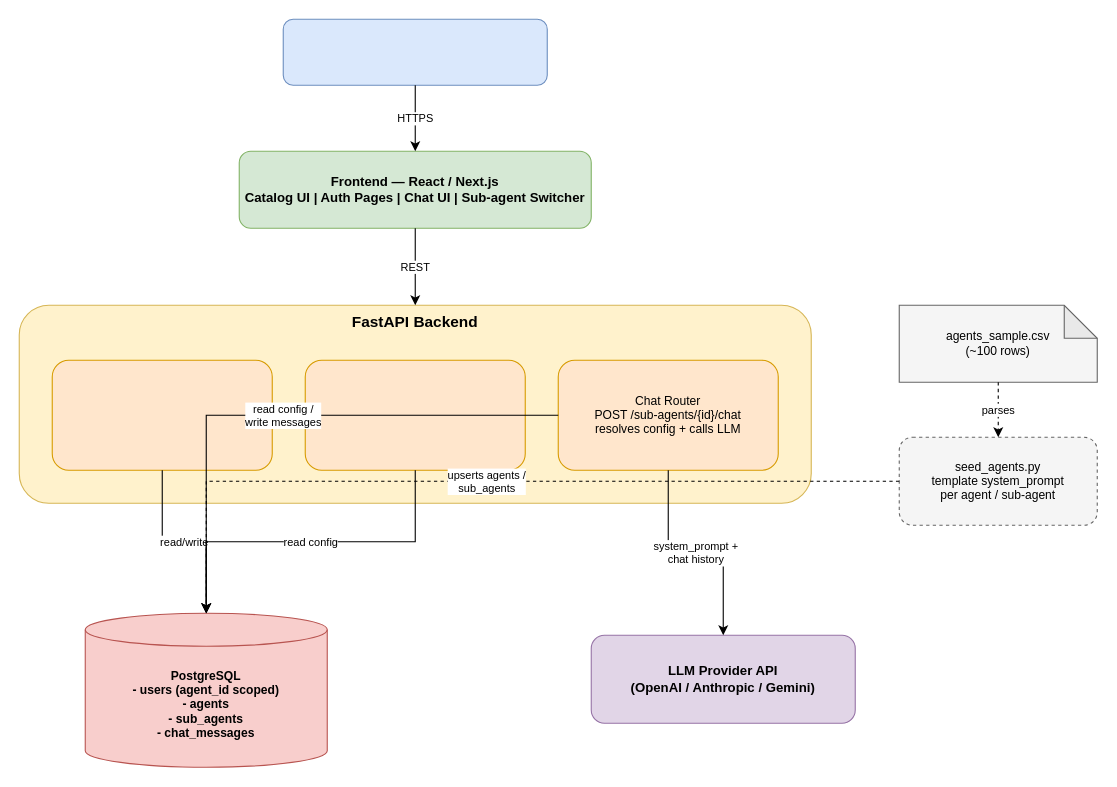
Image size: 1117x787. Some labels were removed from this diagram. The centre of each missing label's shape, as x and y in pixels:
Auth Router /signup /login JWT issue & verify: [161,414]
Catalog Router GET /agents GET /agents/{slug}: [414,414]
User Browser (Desktop / Mobile): [414,51]
